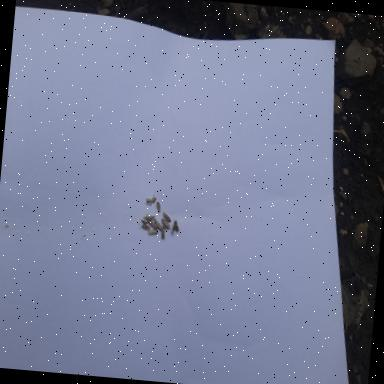pbw: (172, 218, 180, 232), (160, 218, 170, 228), (162, 212, 172, 222), (154, 220, 164, 230), (146, 220, 158, 228), (146, 196, 157, 204), (148, 228, 158, 236), (160, 228, 166, 240), (171, 224, 177, 234), (146, 215, 156, 221), (156, 202, 161, 212), (142, 224, 150, 230), (140, 220, 146, 224)
